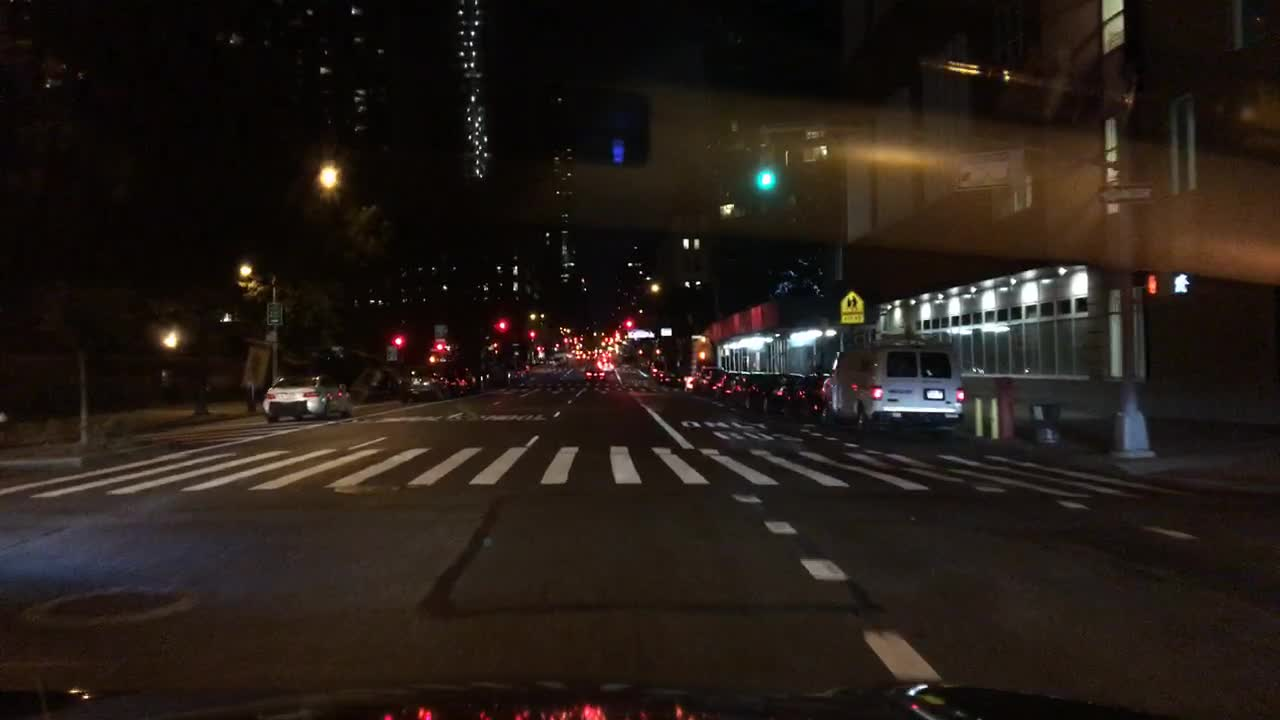car: (821, 345, 965, 434), (260, 373, 352, 422), (761, 370, 802, 409), (793, 373, 831, 413), (740, 372, 781, 406), (401, 367, 442, 399), (683, 364, 720, 393), (446, 365, 477, 396), (715, 368, 745, 398), (654, 365, 678, 385), (581, 364, 607, 380)
traffic light: (752, 158, 777, 197), (1167, 273, 1192, 297), (1143, 271, 1159, 300), (387, 333, 402, 355), (495, 318, 511, 338), (622, 318, 634, 333), (527, 326, 537, 341)
traffic sign: (1098, 185, 1157, 203), (839, 289, 863, 323), (265, 302, 283, 325), (433, 325, 445, 339)
